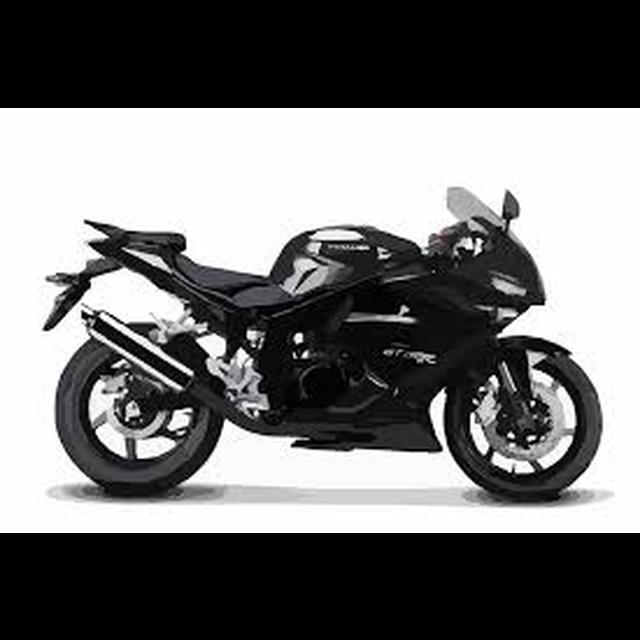motorcycle: (41, 177, 604, 504)
